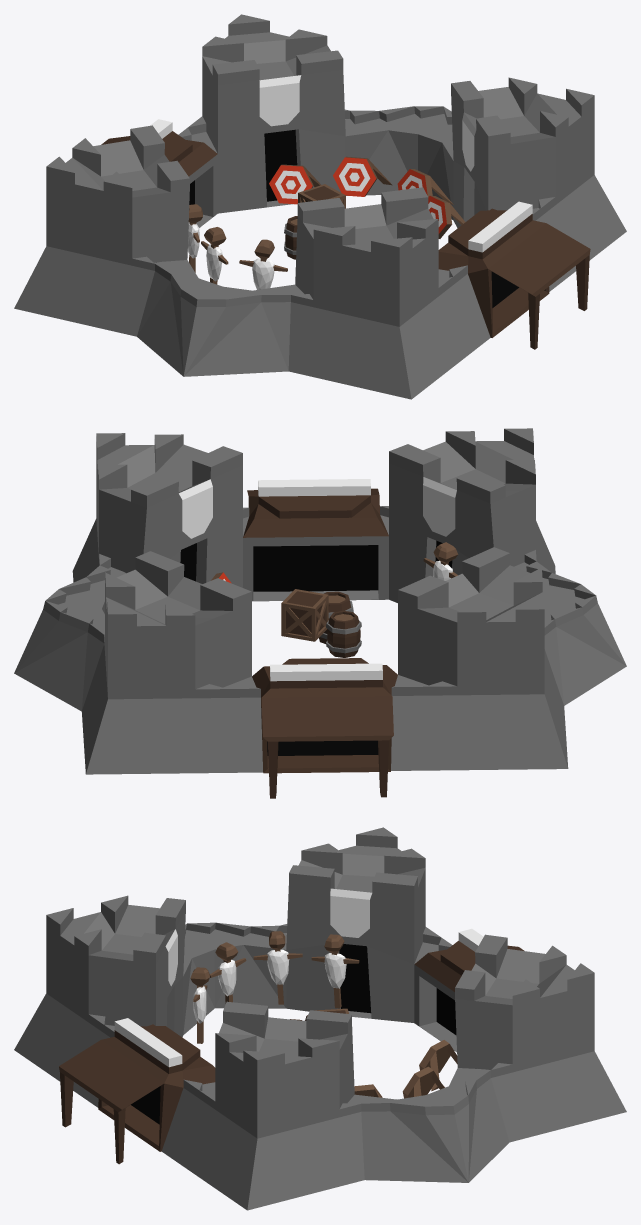
The model's file is Barraks LvL 1.fbx.
3 renders of one model, top to bottom at view 1: azimuth 30°, elevation 25°; view 2: azimuth 150°, elevation 25°; view 3: azimuth 270°, elevation 25°, orthographic. The views are drawn at different scales.
Visible parts, largest first — view 1: Cube.010, Team Color Obj.022; view 2: Cube.010, Team Color Obj.022; view 3: Cube.010, Team Color Obj.022.
Boxes of the visible parts, <box> form: Cube.010: <box>14,14,626,399</box>; Team Color Obj.022: <box>150,75,532,289</box>; Cube.010: <box>14,428,626,798</box>; Team Color Obj.022: <box>179,477,456,681</box>; Cube.010: <box>14,827,626,1210</box>; Team Color Obj.022: <box>114,888,483,1067</box>.
Bounding box in the file's own units: 174 × 44.2 × 174.
